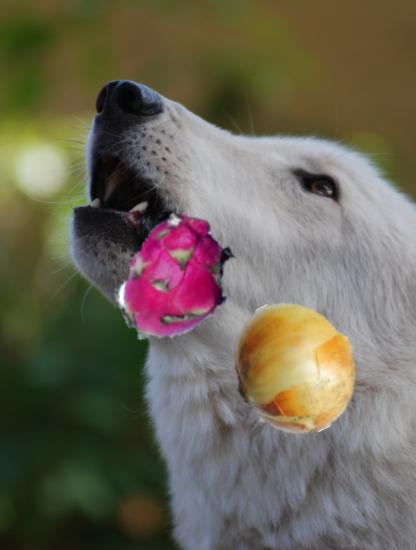Onion: (226, 298, 365, 437)
Pitahaya: (106, 211, 244, 349)
